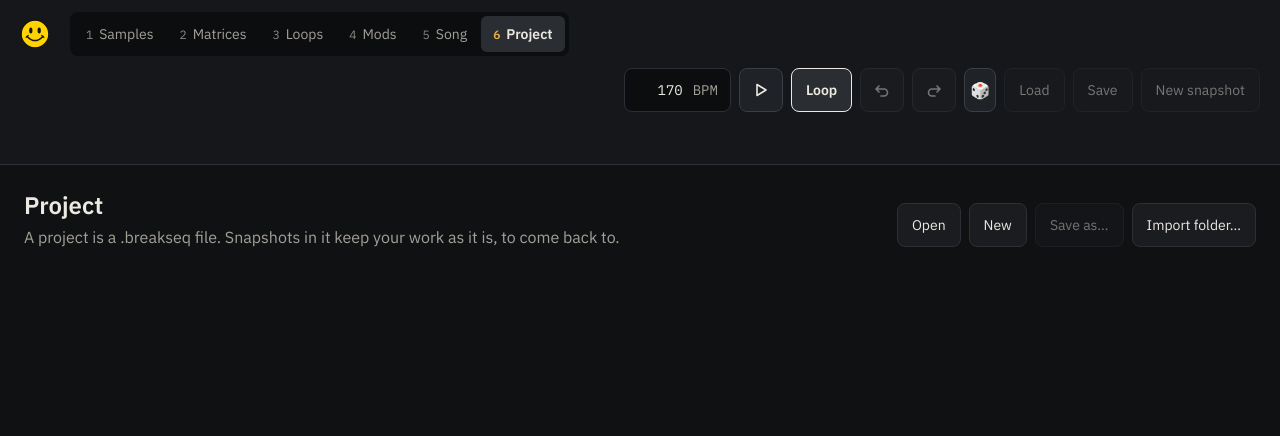
it: projects as .breakseq files in the plugin › Import folder… makes an old project folder into a new .breakseq and opens it; the folder is not touched
Step 1. Click the button "Import folder…" → (1194, 225), box x1=1132 y1=203 x2=1256 y2=247
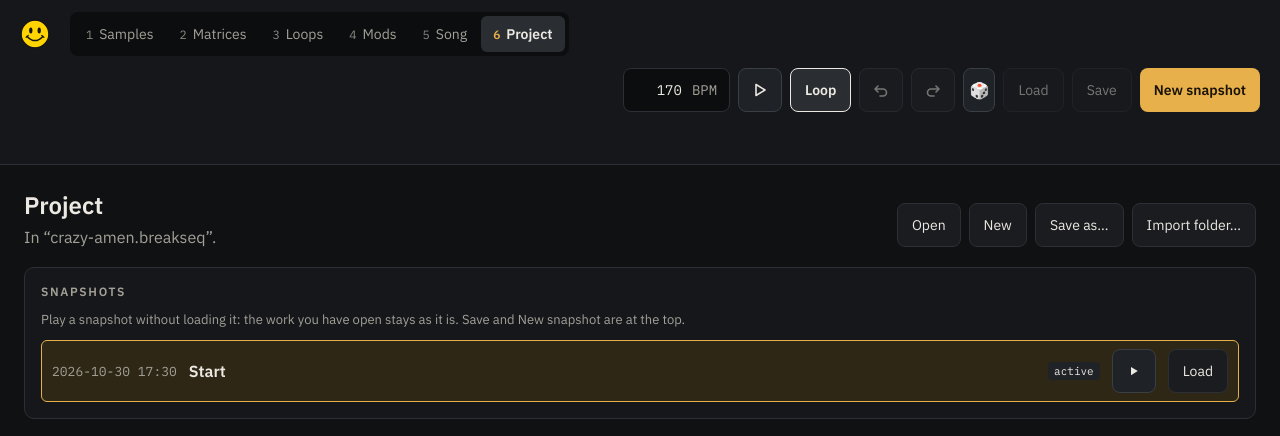
Check: the text "In “crazy-amen.breakseq”." is shown, box x1=24 y1=227 x2=216 y2=247
